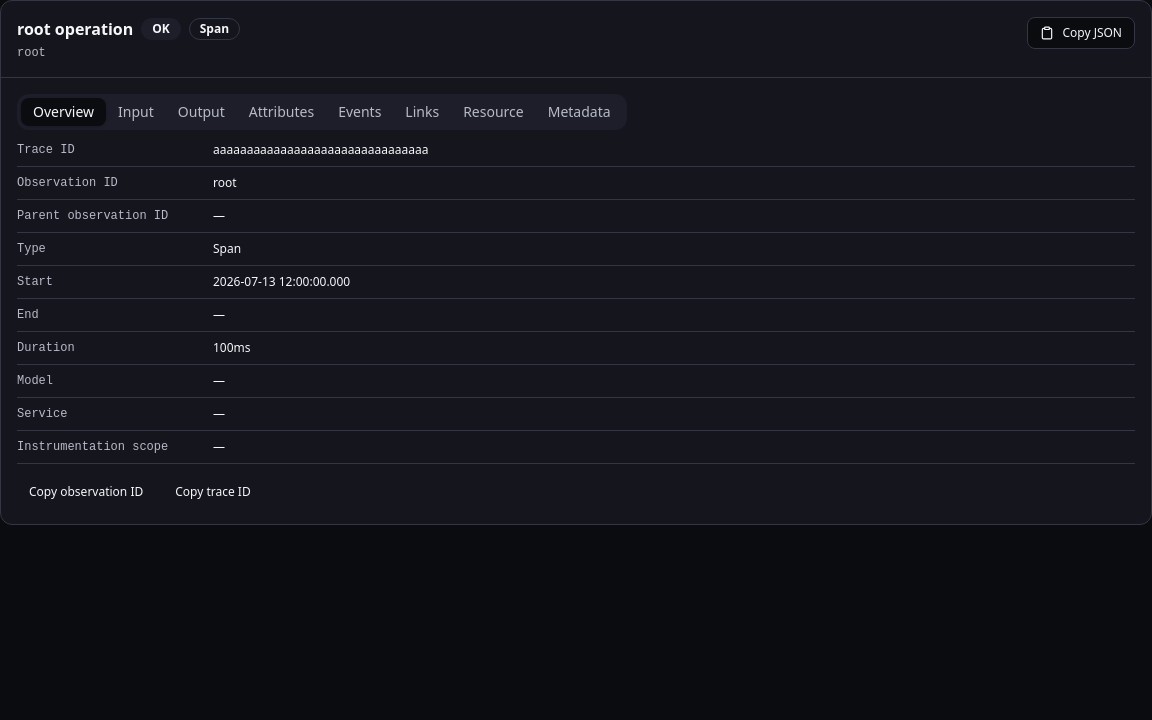
Test: ObservationDetailPanel JSON tree › shows metadata fully expanded with one control to collapse and expand it
Click the tab "Metadata". click: click(579, 112)
box: top-left (536, 98), bottom-right (623, 126)
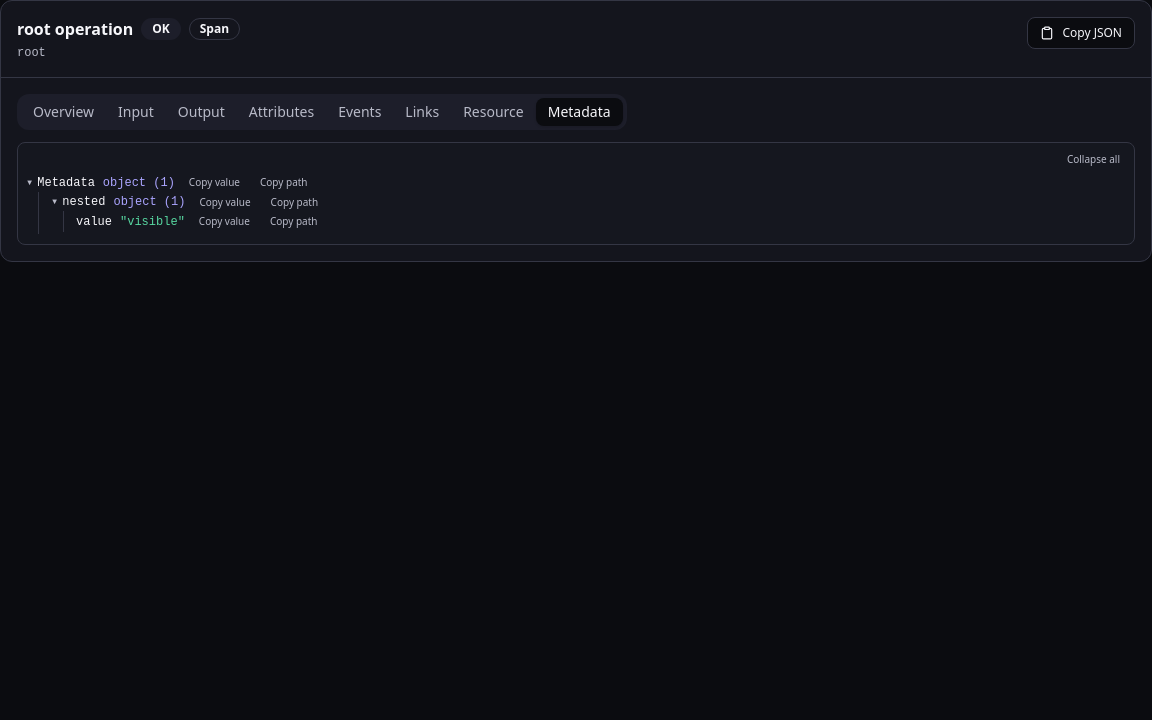
Expected: the element with test id "detail-metadata" shows "\"visible\"", top-left (120, 215), bottom-right (185, 229)
Click the button with aria-label "Collapse all JSON nodes". click: click(1093, 160)
box: top-left (1061, 151), bottom-right (1126, 168)
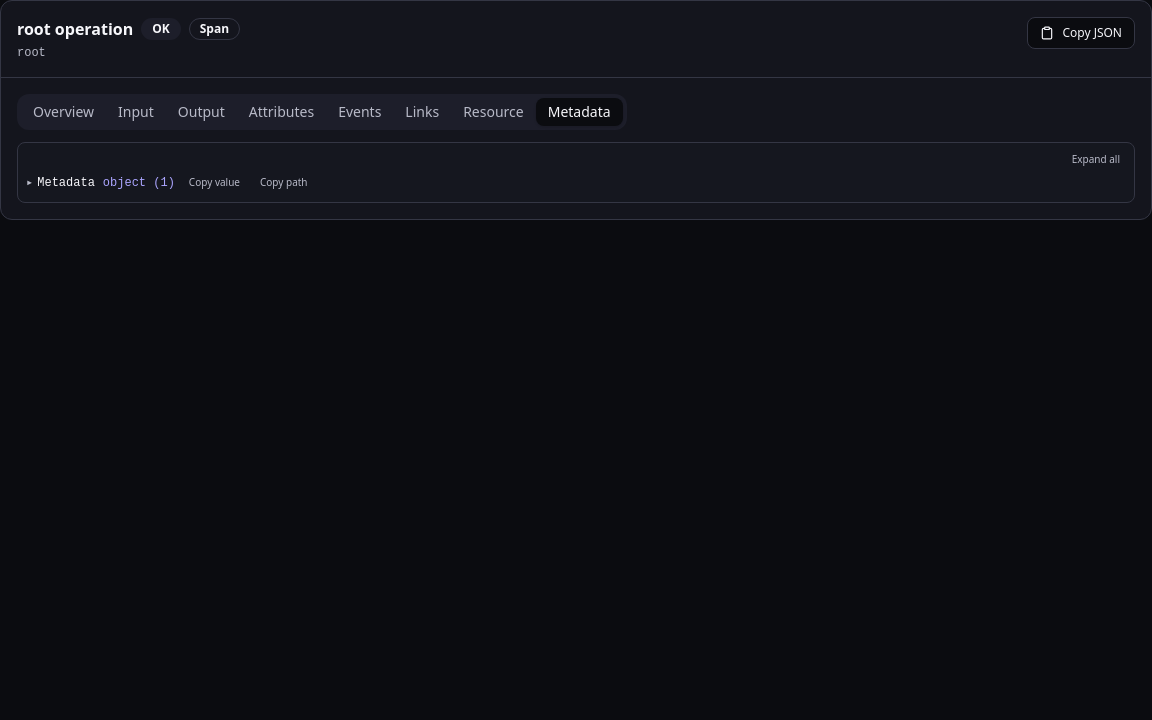
Expected: the button with aria-label "Expand Metadata (object, 1 item)" is collapsed, top-left (26, 175), bottom-right (95, 191)
Expected: the element with test id "detail-metadata" no longer shows "\"visible\"", top-left (17, 142), bottom-right (1135, 203)
Click the button with aria-label "Expand all JSON nodes". click: click(1096, 160)
box: top-left (1066, 151), bottom-right (1126, 168)
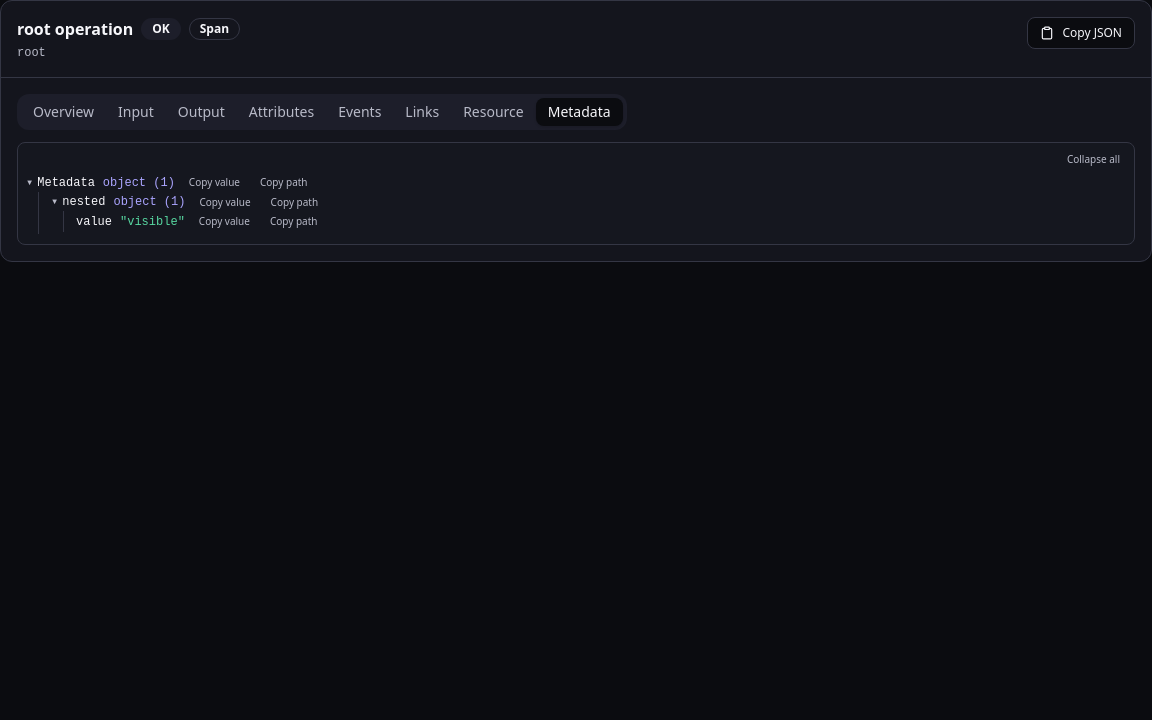
Expected: the element with test id "detail-metadata" shows "\"visible\"", top-left (120, 215), bottom-right (185, 229)
